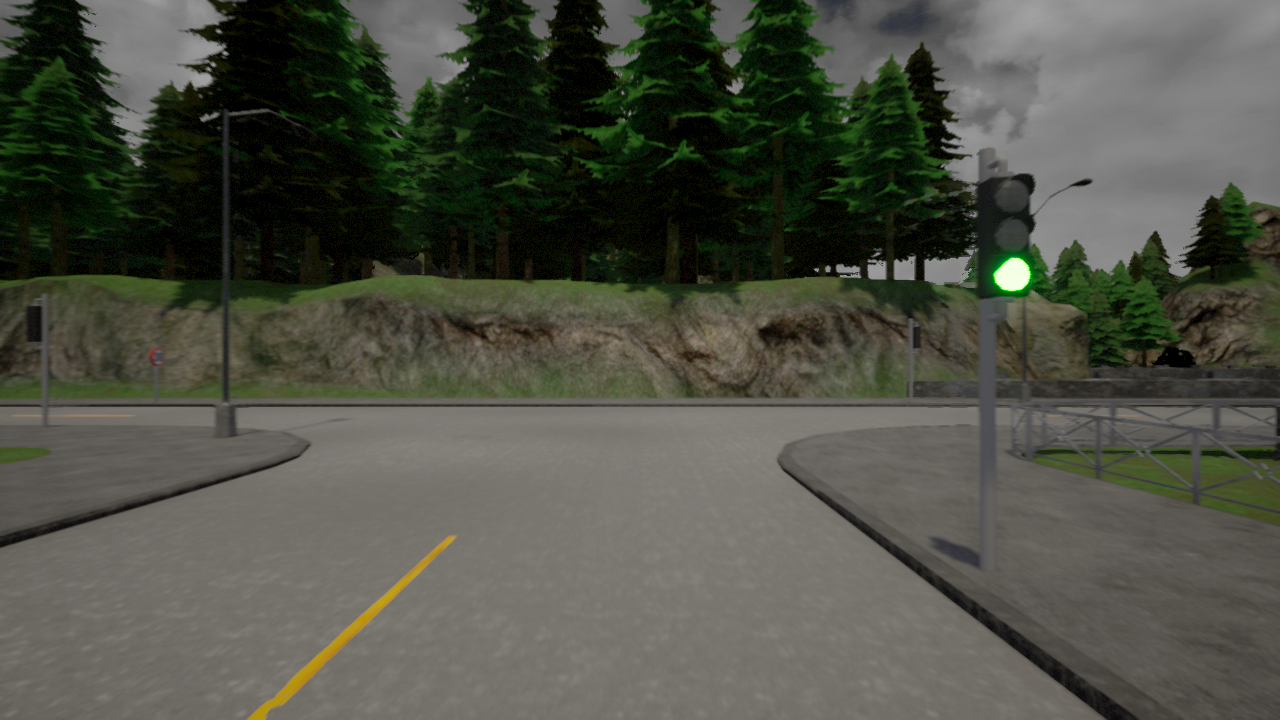green: (975, 176, 1036, 298)
